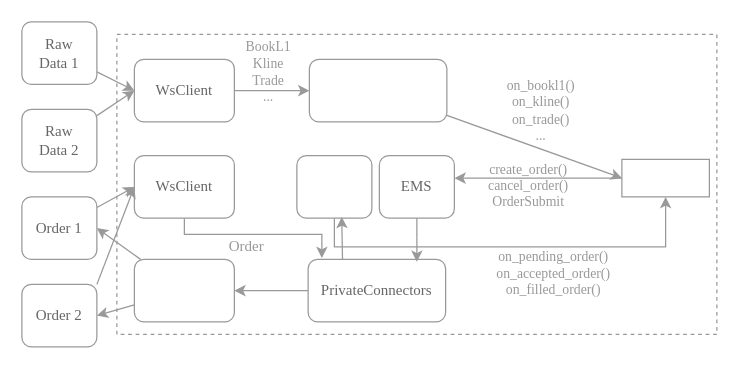
The diagram is 739 pixels wide and 369 high, and some of its shapes have lost their labels. Each missing label, with the centre of its shape:
"OMS" goes at pixel 334 186.
"PublicConnectors" goes at pixel 377 90.
"RestApi" goes at pixel 183 290.
"Strategy" goes at pixel 665 177.
